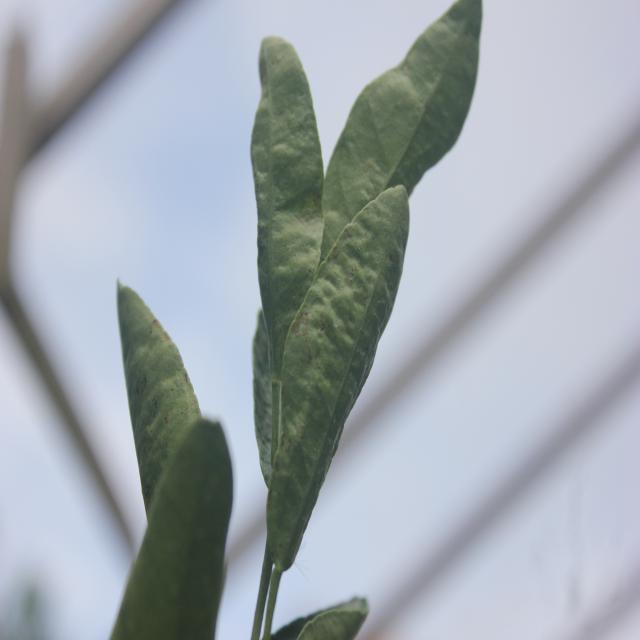canker: (278, 200, 407, 451), (116, 293, 200, 500)
